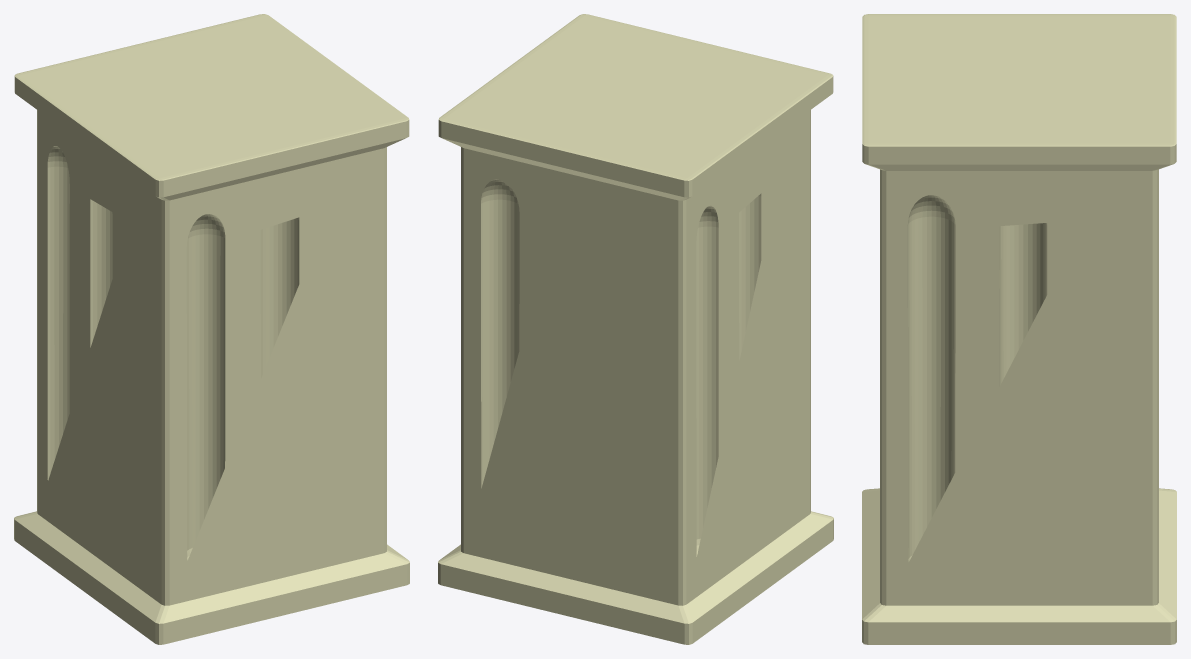
The model's file is piedistallo.fbx.
3 views of the same model, side by side, from view 1: azimuth 30°, elevation 25°; view 2: azimuth 150°, elevation 25°; view 3: azimuth 270°, elevation 25° (orthographic). The views are drawn at different scales.
Parts seen in each view (by area): view 1: Piedistallo; view 2: Piedistallo; view 3: Piedistallo.
Part boxes in pixels (bbox=[...]): Piedistallo: bbox=[14, 14, 409, 644]; Piedistallo: bbox=[438, 14, 833, 644]; Piedistallo: bbox=[862, 14, 1176, 644].
Size of the model in its own units: 62.29 by 109 by 62.29.
